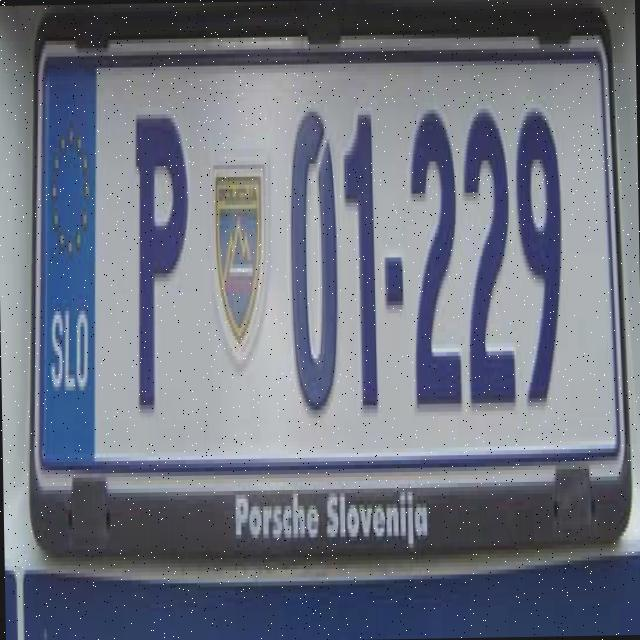EU: (37, 43, 614, 464)
Slovenie: (41, 54, 97, 457)
